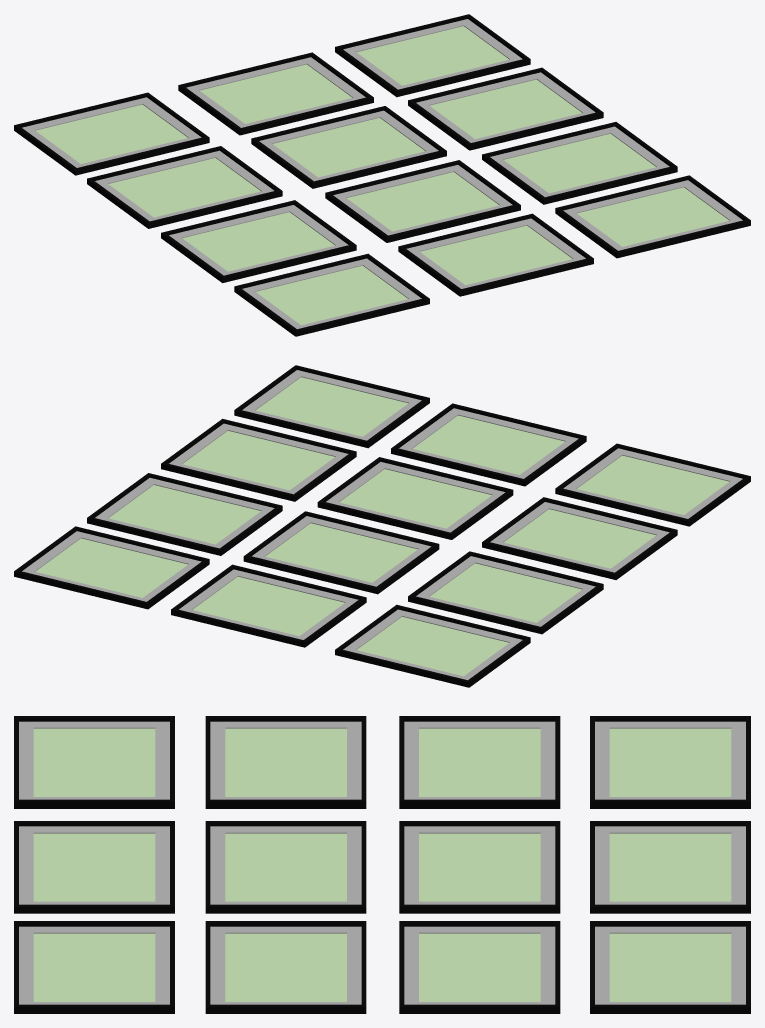
File: frame artwork_corona.FBX
3 renders of one model, top to bottom at view 1: azimuth 30°, elevation 25°; view 2: azimuth 150°, elevation 25°; view 3: azimuth 270°, elevation 25°, orthographic. The views are drawn at different scales.
Visible parts, largest first — view 1: Box011, Box008, Box014, Box012, Box010, Box007, Box017, Box013, Box016, Box009, Box006, Box015; view 2: Box017, Box012, Box014, Box007, Box011, Box015, Box008, Box013, Box016, Box009, Box006, Box010; view 3: Box009, Box017, Box015, Box012, Box010, Box006, Box011, Box014, Box013, Box016, Box008, Box007.
Part boxes in pixels (left/top/right/bottom): Box011: left=234, top=253, right=429, bottom=336; Box008: left=335, top=14, right=530, bottom=97; Box014: left=555, top=175, right=750, bottom=258; Box012: left=325, top=160, right=520, bottom=242; Box010: left=161, top=200, right=356, bottom=283; Box007: left=14, top=92, right=209, bottom=175; Box017: left=251, top=106, right=446, bottom=188; Box013: left=398, top=213, right=593, bottom=296; Box016: left=178, top=52, right=373, bottom=135; Box009: left=87, top=146, right=282, bottom=228; Box006: left=408, top=67, right=603, bottom=150; Box015: left=482, top=122, right=677, bottom=204; Box017: left=243, top=511, right=439, bottom=594; Box012: left=317, top=457, right=513, bottom=539; Box014: left=234, top=365, right=429, bottom=448; Box007: left=335, top=604, right=530, bottom=687; Box011: left=555, top=443, right=750, bottom=526; Box015: left=161, top=418, right=356, bottom=501; Box008: left=14, top=526, right=209, bottom=609; Box013: left=391, top=403, right=586, bottom=486; Box016: left=171, top=564, right=366, bottom=647; Box009: left=408, top=551, right=603, bottom=634; Box006: left=87, top=473, right=282, bottom=555; Box010: left=482, top=497, right=677, bottom=579; Box009: left=399, top=716, right=560, bottom=808; Box017: left=399, top=821, right=560, bottom=913; Box015: left=205, top=921, right=366, bottom=1013; Box012: left=205, top=821, right=366, bottom=913; Box010: left=205, top=716, right=366, bottom=808; Box006: left=399, top=921, right=560, bottom=1013; Box011: left=14, top=716, right=174, bottom=808; Box014: left=14, top=921, right=174, bottom=1013; Box013: left=14, top=821, right=174, bottom=913; Box016: left=590, top=821, right=750, bottom=913; Box008: left=590, top=921, right=750, bottom=1013; Box007: left=590, top=716, right=750, bottom=808.
Bounding box in the file's own units: 8409 × 95.58 × 9012.
